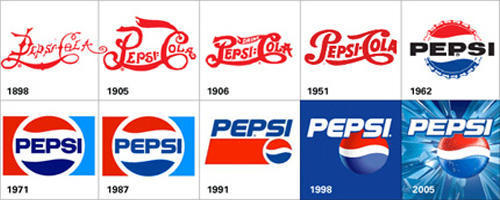pepsi: (13, 111, 84, 179)
